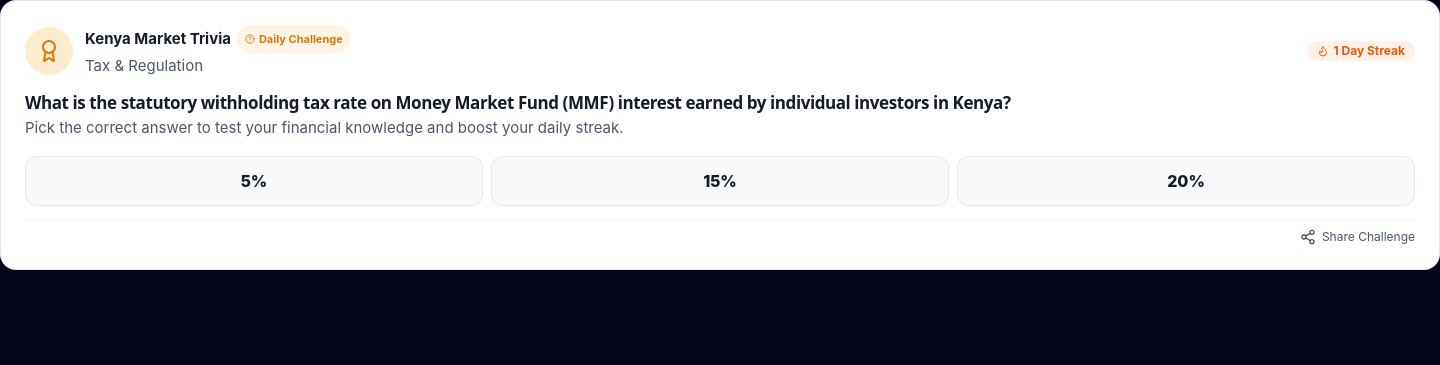
Test case: FeedTriviaCard › reveals explanation and increments streak on correct answer
Click the button "15%".
click(720, 181)  # box [491,156,949,206]
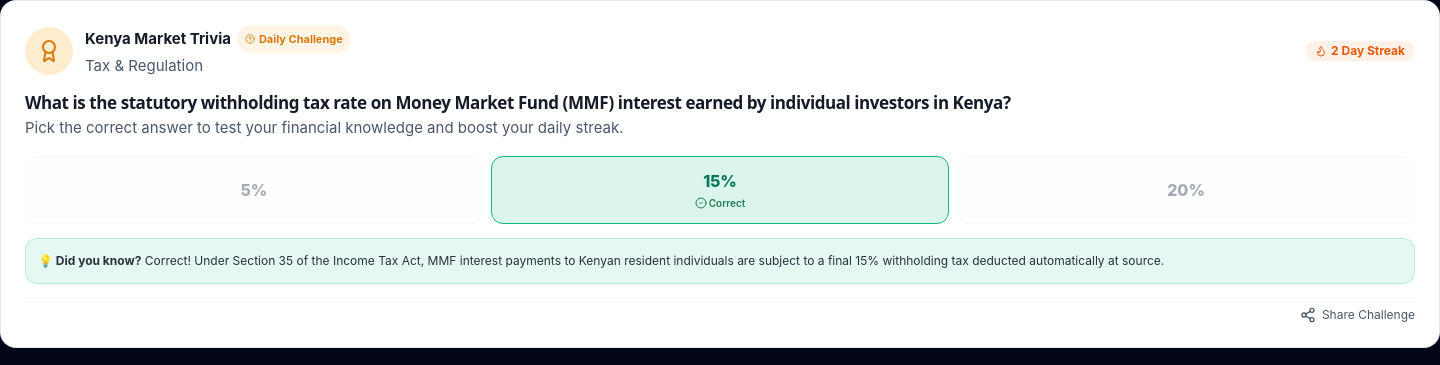
Expected: the text "💡 Did you know?" is shown, [38,253,141,268]
Expected: the text "Section 35 of the Income Tax Act" is shown, [145,253,1164,268]
